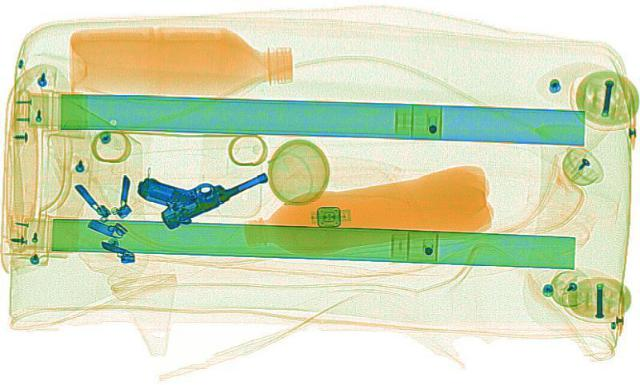Gun: (111, 142, 281, 231)
